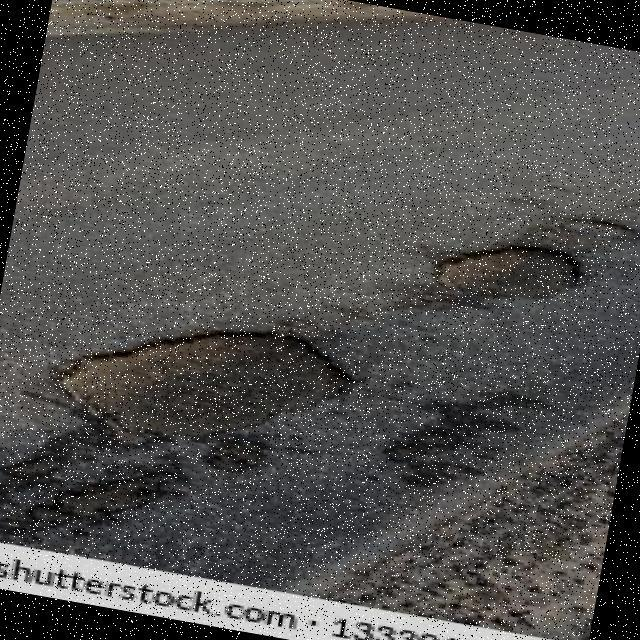Pothole: (59, 328, 354, 439), (432, 241, 583, 299)
